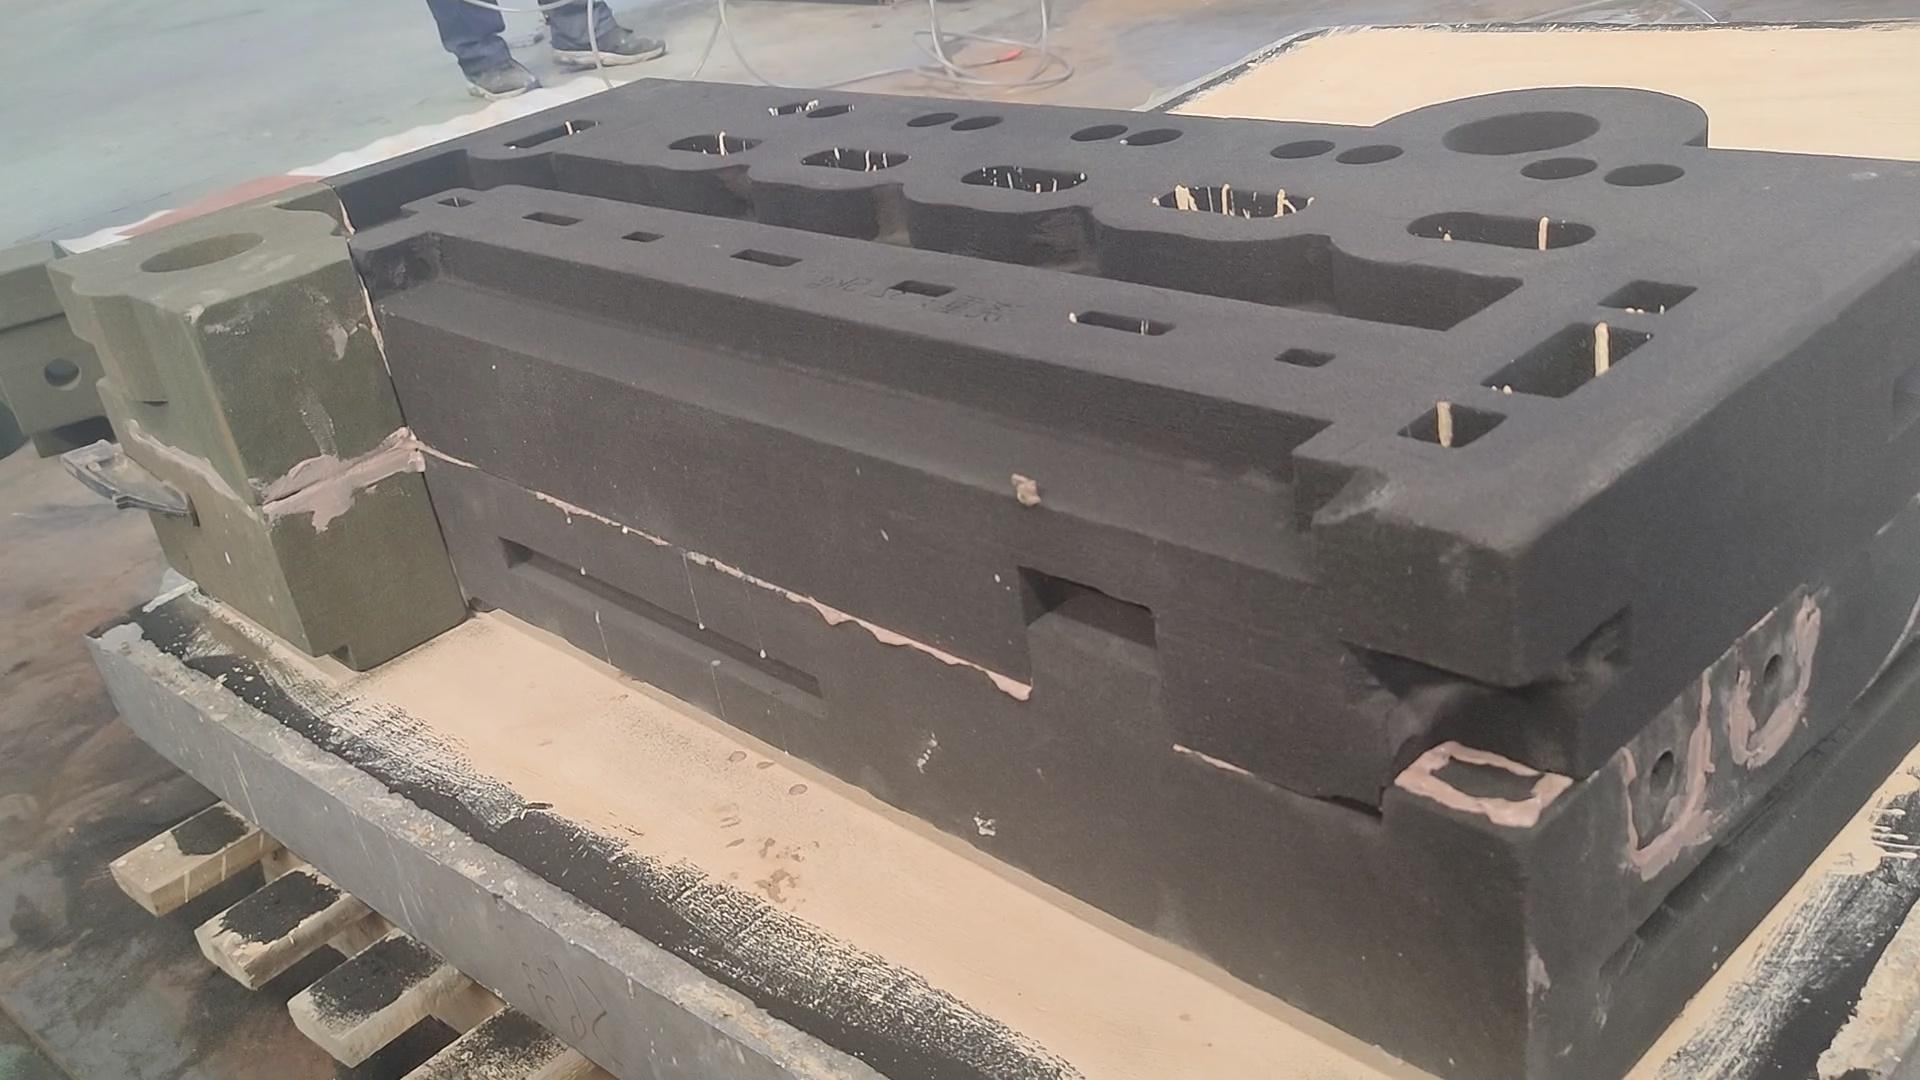pouring hole: (1441, 111, 1600, 156), (138, 233, 265, 274)
